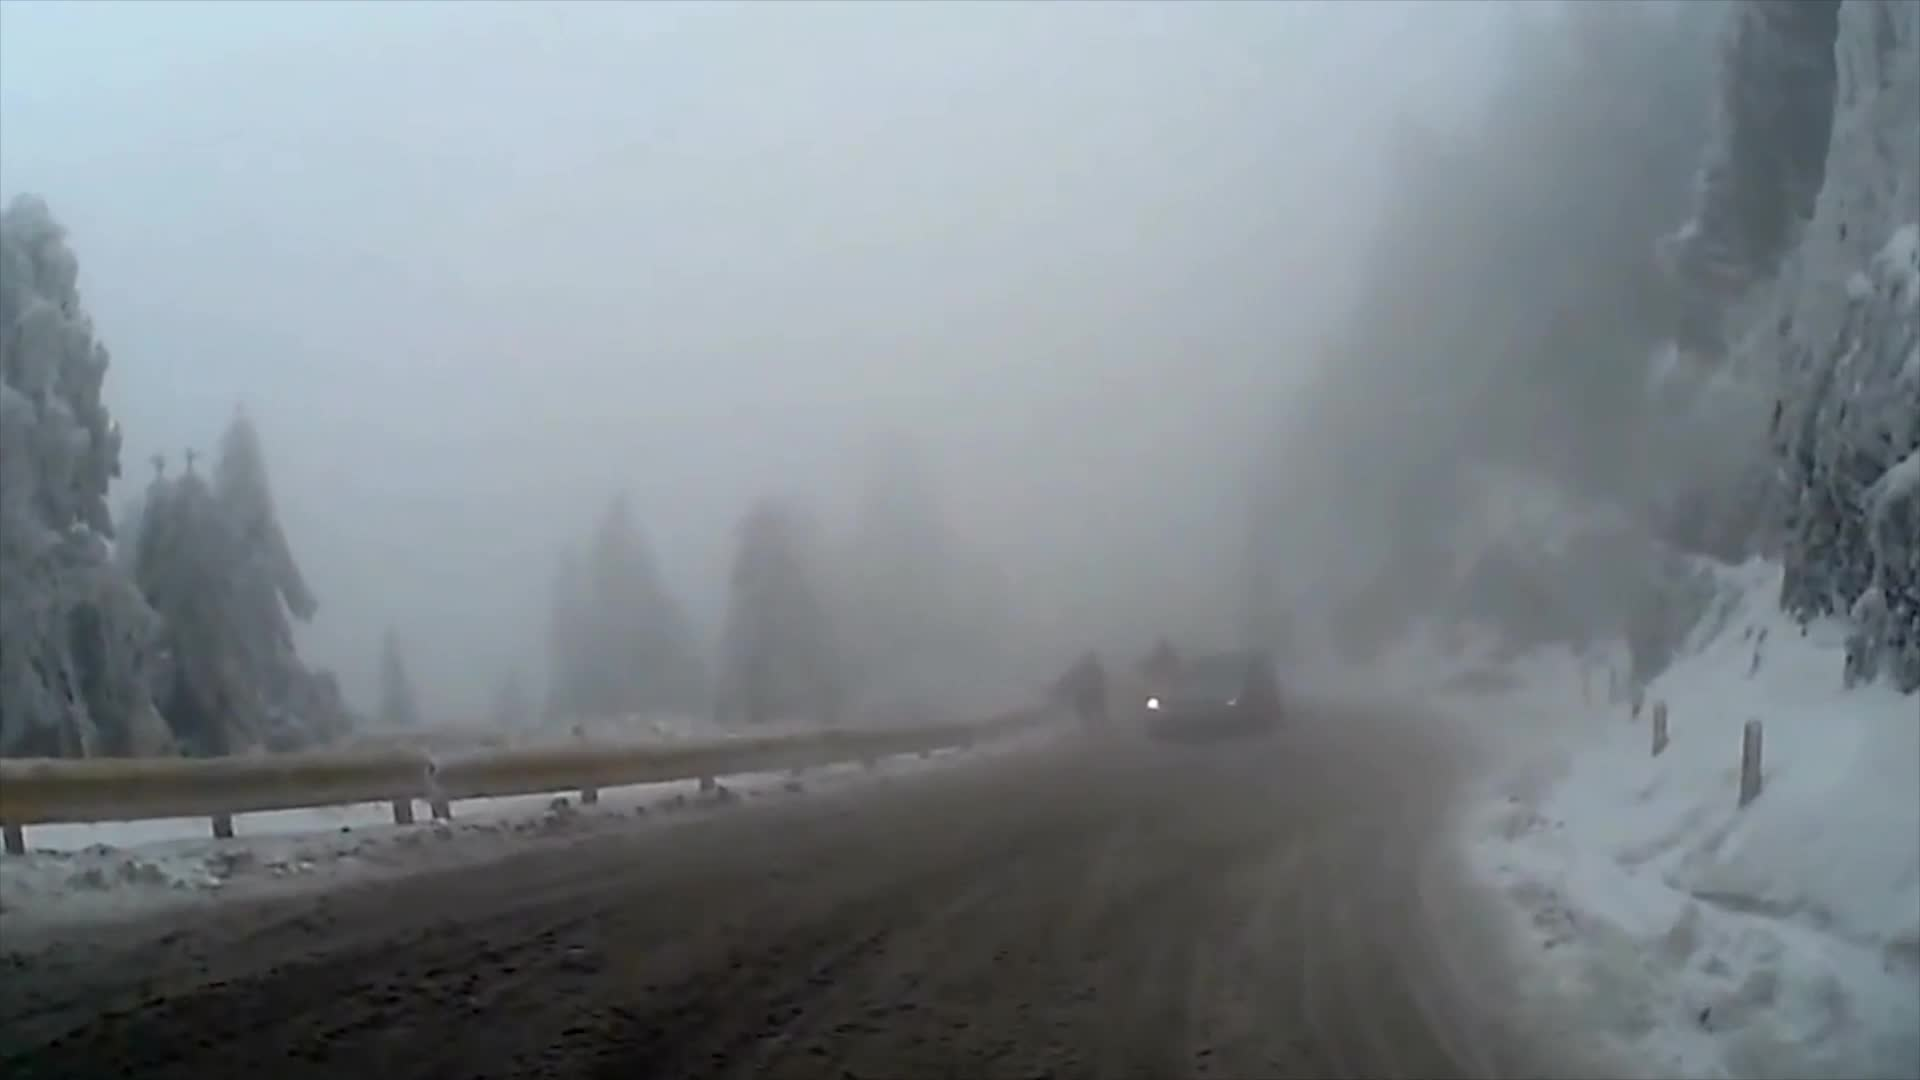vehicle: (1139, 646, 1284, 740)
